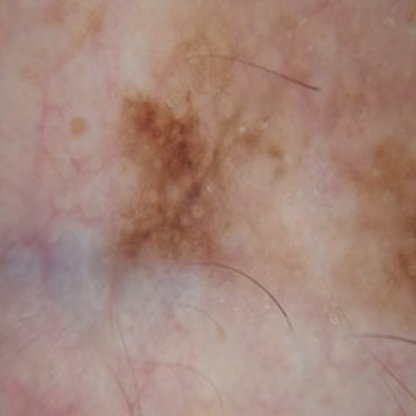malignant: (105, 100, 234, 266), (341, 126, 416, 295)
